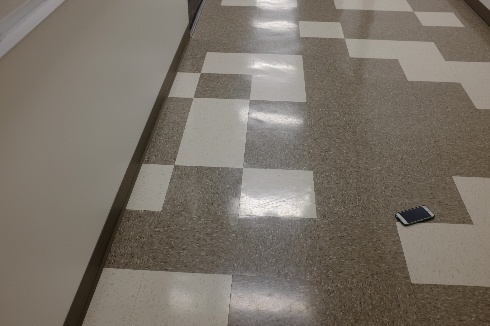phone: (392, 200, 441, 232)
